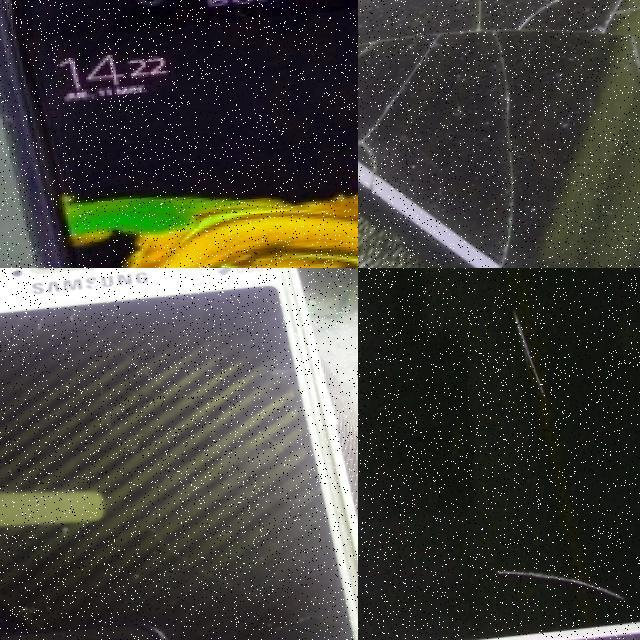scratch: (489, 566, 623, 623), (508, 320, 547, 416)
screen crack: (358, 0, 640, 268), (1, 276, 225, 474)
